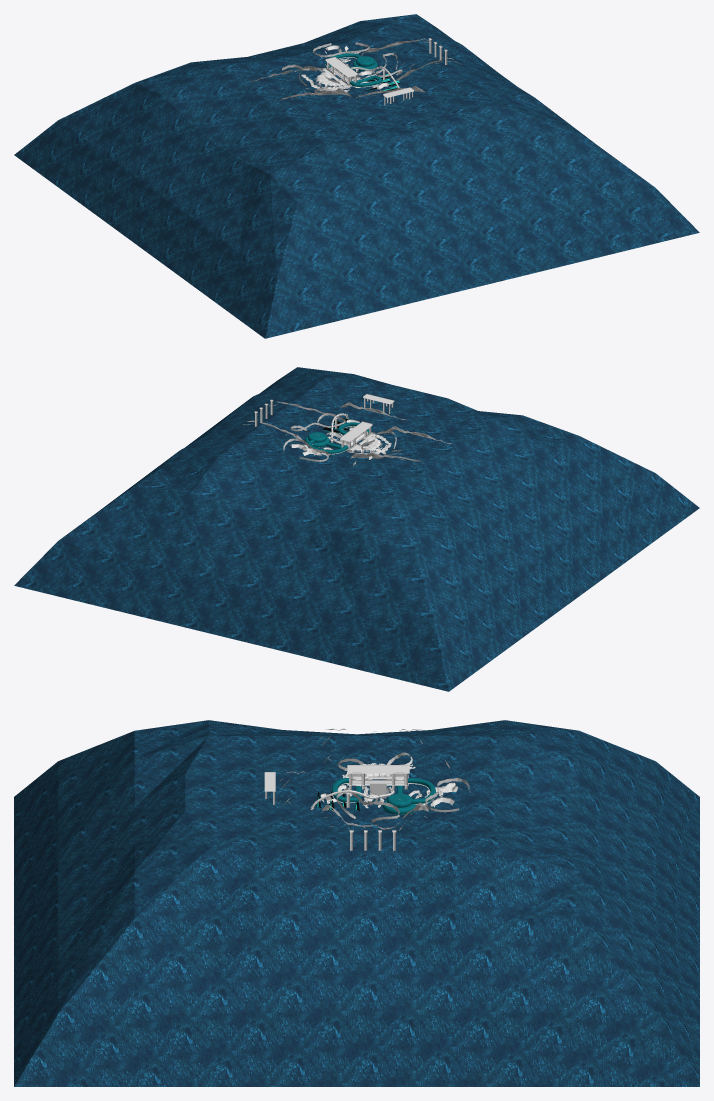
Rendered from track.glb.
The picture shows the model from 3 angles, top to bottom: view 1: azimuth 30°, elevation 25°; view 2: azimuth 150°, elevation 25°; view 3: azimuth 270°, elevation 25°; orthographic projection. The views are drawn at different scales.
Parts seen in each view (by area): view 1: mesh_24, mesh_21, mesh_18, mesh_5, mesh_14, mesh_7; view 2: mesh_24, mesh_21, mesh_14, mesh_18, mesh_5, mesh_7; view 3: mesh_24, mesh_18, mesh_5, mesh_21, mesh_14, mesh_7.
Boxes of the visible parts, x1,y1,x2,y2 form: mesh_24: [14, 14, 699, 338]; mesh_21: [249, 38, 459, 101]; mesh_18: [315, 38, 447, 97]; mesh_5: [325, 53, 382, 86]; mesh_14: [298, 42, 402, 92]; mesh_7: [323, 38, 447, 105]; mesh_24: [14, 367, 699, 691]; mesh_21: [242, 401, 451, 466]; mesh_14: [283, 413, 396, 461]; mesh_18: [254, 394, 394, 454]; mesh_5: [305, 422, 368, 453]; mesh_7: [255, 394, 393, 450]; mesh_24: [14, 720, 699, 1086]; mesh_18: [264, 765, 434, 832]; mesh_5: [332, 778, 435, 814]; mesh_21: [279, 728, 457, 842]; mesh_14: [336, 752, 470, 822]; mesh_7: [265, 773, 408, 851].
Bounding box in the file's own units: 2117 × 576 × 2117.
Materials: 4 (4 with a texture image).
